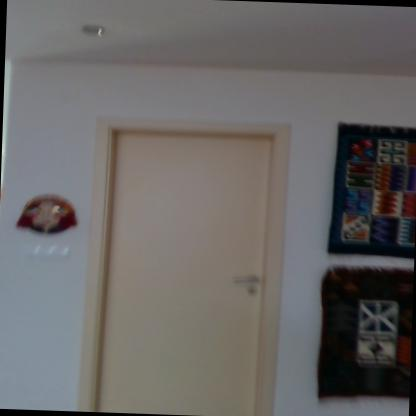closed: (74, 98, 318, 415)
